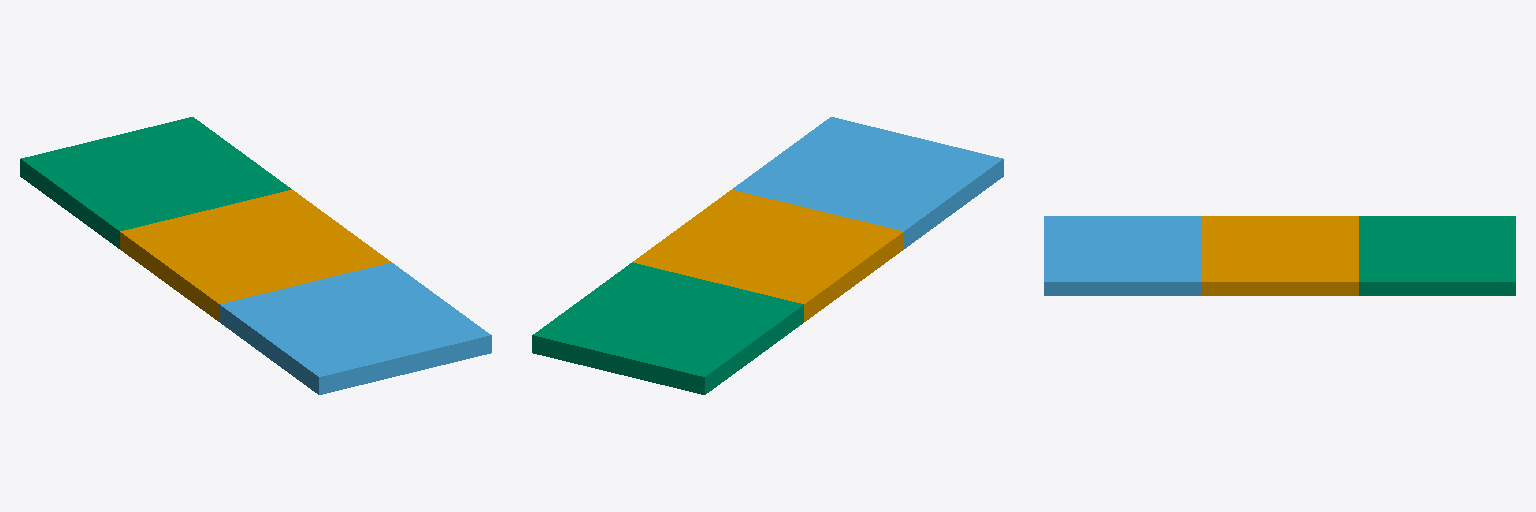
URDF robot description (stand.urdf):
<?xml version="0.0" ?>
<robot name="stand.urdf">
  <link name="baseLink">
    <contact>
      <lateral_friction value="1.0"/>
      <rolling_friction value="0.0001"/>
      <inertia_scaling value="3.0"/>
    </contact>
    <inertial>
      <origin rpy="0 0 0" xyz="0 0 0"/>
       <mass value=".1"/>
       <inertia ixx="1" ixy="0" ixz="0" iyy="1" iyz="0" izz="1"/>
    </inertial>
    <visual>
      <origin rpy="0 0 0" xyz="0 0 0"/>
      <geometry>
        <box size=".05 .05 .005"/>
      </geometry>
    </visual>
    <collision>
      <origin rpy="0 0 0" xyz="0 0 0"/>
      <geometry>
        <box size=".05 .05 .005"/>
      </geometry>
    </collision>
  </link>

  <link name="base1">
    <inertial>
      <origin rpy="0 0 0" xyz="0 0 0"/>
       <mass value=".1"/>
       <inertia ixx="1" ixy="0" ixz="0" iyy="1" iyz="0" izz="1"/>
    </inertial>
    <visual>
      <origin rpy="0 0 0" xyz="0 -0.05 0"/>
      <geometry>
        <box size=".05 .05 .005"/>
      </geometry>
    </visual>
    <collision>
      <origin rpy="0 0 0" xyz="0 -0.05 0"/>
      <geometry>
        <box size=".05 .05 .005"/>
      </geometry>
    </collision>
  </link>
  <joint name="baseLink-base1" type="fixed">
    <origin xyz="0 0 0" rpy="0 0 0"/>
    <parent link="baseLink"/>
    <child link="base1"/>
  </joint>

  <link name="base2">
    <inertial>
      <origin rpy="0 0 0" xyz="0 0 0"/>
       <mass value=".1"/>
       <inertia ixx="1" ixy="0" ixz="0" iyy="1" iyz="0" izz="1"/>
    </inertial>
    <visual>
      <origin rpy="0 0 0" xyz="0 0.05 0"/>
      <geometry>
        <box size=".05 .05 .005"/>
      </geometry>
    </visual>
    <collision>
      <origin rpy="0 0 0" xyz="0 0.05 0"/>
      <geometry>
        <box size=".05 .05 .005"/>
      </geometry>
    </collision>
  </link>
  <joint name="baseLink-base2" type="fixed">
    <origin xyz="0 0 0" rpy="0 0 0"/>
    <parent link="baseLink"/>
    <child link="base2"/>
  </joint>

</robot>

--- Render facts (derived) ---
3 views of the same robot in one strip: view 1: azimuth 30°, elevation 25°; view 2: azimuth 150°, elevation 25°; view 3: azimuth 270°, elevation 25° (orthographic).
Model stand.urdf with 3 links and 2 joints (2 fixed), rooted at baseLink, posed every joint at zero.
Links seen in each view (by area): view 1: base1, baseLink, base2; view 2: base2, baseLink, base1; view 3: baseLink, base1, base2.
Boxes of the visible links, left/top/right/bottom form: base1: left=220, top=262, right=491, bottom=394; baseLink: left=120, top=190, right=390, bottom=321; base2: left=20, top=117, right=291, bottom=248; base2: left=532, top=262, right=803, bottom=394; baseLink: left=633, top=190, right=903, bottom=321; base1: left=732, top=117, right=1003, bottom=248; baseLink: left=1201, top=216, right=1358, bottom=295; base1: left=1044, top=216, right=1200, bottom=295; base2: left=1359, top=216, right=1515, bottom=295.
Size in the robot's own frame: 0.05 by 0.15 by 0.005 metres.
Geometry: primitives only (box / cylinder / sphere), no mesh files.